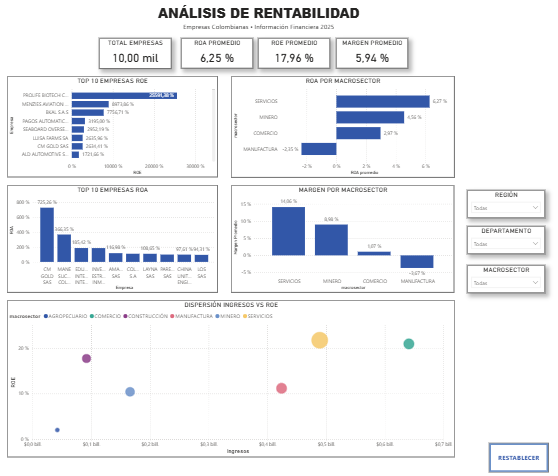

Layout of this report page (visuals, bound fields, positions):
{"tool":"powerbi","page":{"name":"Análisis de rentabilidad","canvas":[1400,1200],"ordinal":2},"visuals":[{"type":"card","title":"TOTAL EMPRESAS","fields":{"Values":["CountNonNull(vw_finanzas_empresa.razon_social)"]},"box":[250.7,100.9,180.7,76.5],"z":0},{"type":"clusteredBarChart","title":"TOP 10 EMPRESAS ROE","fields":{"Category":["vw_finanzas_empresa.razon_social"],"Y":["vw_finanzas_empresa.ROE promedio"]},"box":[19.5,196.1,526.8,253.2],"z":3000},{"type":"clusteredColumnChart","title":"TOP 10 EMPRESAS ROA","fields":{"Category":["vw_finanzas_empresa.razon_social"],"Y":["vw_finanzas_empresa.ROA promedio"]},"box":[19.5,466.8,526.8,269.3],"z":4000},{"type":"clusteredBarChart","title":"ROA POR MACROSECTOR","fields":{"Category":["vw_finanzas_empresa.macrosector"],"Y":["vw_finanzas_empresa.ROA promedio"]},"box":[580.5,195.1,558.5,253.7],"z":5000},{"type":"slicer","title":"REGIÓN","fields":{"Values":["vw_finanzas_empresa.region"]},"box":[1169.2,480.5,195.1,70.1],"z":6000},{"type":"slicer","title":"DEPARTAMENTO","fields":{"Values":["vw_finanzas_empresa.departamento"]},"box":[1169.2,570.4,195.1,70.1],"z":7000},{"type":"slicer","title":"MACROSECTOR","fields":{"Values":["vw_finanzas_empresa.macrosector"]},"box":[1169.2,666.5,195.1,70.1],"z":8000},{"type":"textbox","box":[0,10.7,1298.8,76.2],"z":9000},{"type":"actionButton","title":"LIMPIAR FILTROS","box":[1224.4,1112.2,148.8,73.2],"z":10000},{"type":"card","title":"ROA PROMEDIO","fields":{"Values":["vw_finanzas_empresa.ROA promedio"]},"box":[454.7,99.1,179.9,76.2],"z":10001},{"type":"card","title":"ROE PROMEDIO","fields":{"Values":["vw_finanzas_empresa.ROE promedio"]},"box":[648.3,99.1,179.9,76.2],"z":10002},{"type":"card","title":"MARGEN PROMEDIO","fields":{"Values":["vw_finanzas_empresa.Margen Promedio"]},"box":[841.9,99.1,179.9,76.2],"z":10003},{"type":"clusteredColumnChart","title":"MARGEN POR MACROSECTOR","fields":{"Category":["vw_finanzas_empresa.macrosector"],"Y":["vw_finanzas_empresa.Margen Promedio"]},"box":[581.2,467.2,558.4,268.6],"z":10004},{"type":"scatterChart","title":"DISPERSIÓN  INGRESOS VS ROE","fields":{"X":["Sum(vw_finanzas_empresa.ingresos_2025)"],"Y":["vw_finanzas_empresa.ROE promedio"],"Series":["vw_finanzas_empresa.macrosector"],"Size":["Sum(vw_finanzas_empresa.activos_2025)"]},"box":[19.5,756.1,1119.5,392.7],"z":10005}]}

Visuals, with their boxes in screenshot pixels (x1, y1, x2, y2), scaled from the page's 1400x1200 canvas onto the 558x476 screenshot:
"TOTAL EMPRESAS" card: <box>100,40,172,70</box>
"TOP 10 EMPRESAS ROE" clusteredBarChart: <box>8,78,218,178</box>
"TOP 10 EMPRESAS ROA" clusteredColumnChart: <box>8,185,218,292</box>
"ROA POR MACROSECTOR" clusteredBarChart: <box>231,77,454,178</box>
"REGIÓN" slicer: <box>466,191,544,218</box>
"DEPARTAMENTO" slicer: <box>466,226,544,254</box>
"MACROSECTOR" slicer: <box>466,264,544,292</box>
textbox: <box>0,4,518,34</box>
"LIMPIAR FILTROS" actionButton: <box>488,441,547,470</box>
"ROA PROMEDIO" card: <box>181,39,253,70</box>
"ROE PROMEDIO" card: <box>258,39,330,70</box>
"MARGEN PROMEDIO" card: <box>336,39,407,70</box>
"MARGEN POR MACROSECTOR" clusteredColumnChart: <box>232,185,454,292</box>
"DISPERSIÓN  INGRESOS VS ROE" scatterChart: <box>8,300,454,456</box>
